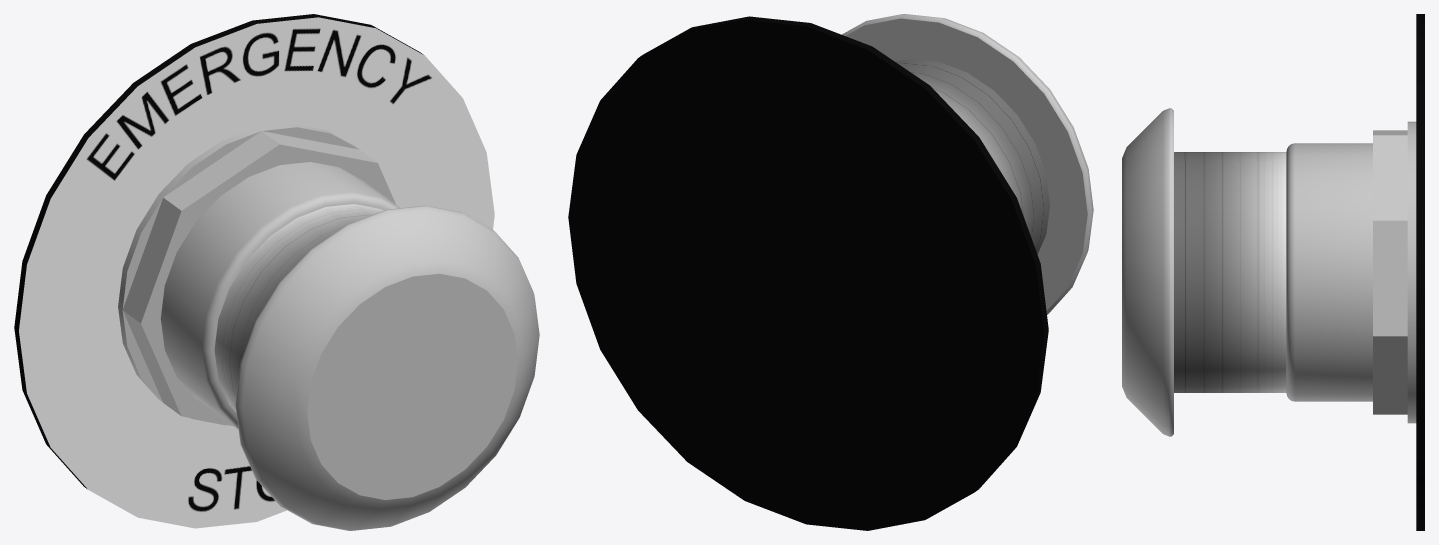
File: estop_button_circle.dae
The picture shows the model from 3 angles, left to right: view 1: azimuth 30°, elevation 25°; view 2: azimuth 150°, elevation 25°; view 3: azimuth 270°, elevation 25°; orthographic projection. The views are drawn at different scales.
Parts seen in each view (by area): view 1: placard (×2), estop_button (×3), housing_nut, estop_housing; view 2: placard, estop_button (×2); view 3: estop_button (×2), estop_housing, housing_nut, placard.
Part boxes in pixels (box(x1,y1,x2,y2)): placard (×2): box(14, 14, 494, 528); estop_button (×3): box(214, 204, 539, 530); housing_nut: box(118, 124, 395, 426); estop_housing: box(160, 162, 400, 429); placard: box(568, 16, 1048, 530); estop_button (×2): box(842, 14, 1093, 314); estop_button (×2): box(1122, 108, 1286, 436); estop_housing: box(1286, 143, 1372, 401); housing_nut: box(1373, 121, 1416, 423); placard: box(1416, 14, 1424, 530).
Size of the model in its own units: 2.36 by 1.38 by 2.36.
